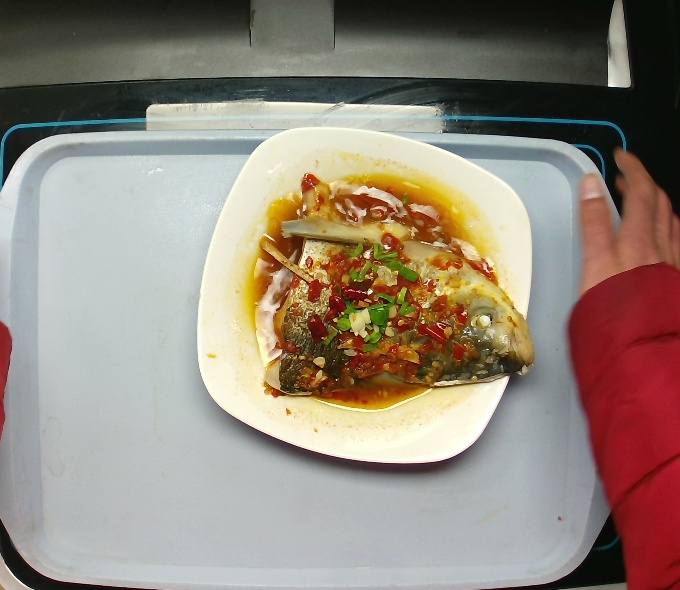wcq-DuoJiaoYuTou: (258, 165, 543, 402)
